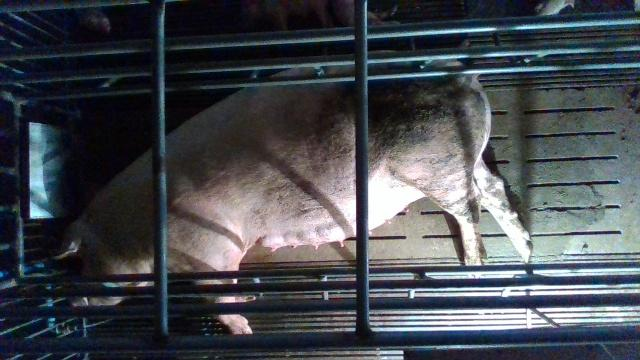piglet: (238, 1, 403, 28), (73, 2, 113, 35)
sow-sleep-lactate: (50, 61, 532, 334)
